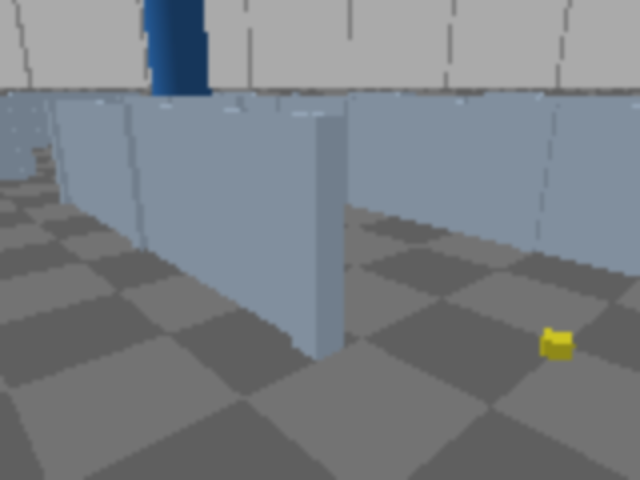puck: (540, 328, 574, 362)
